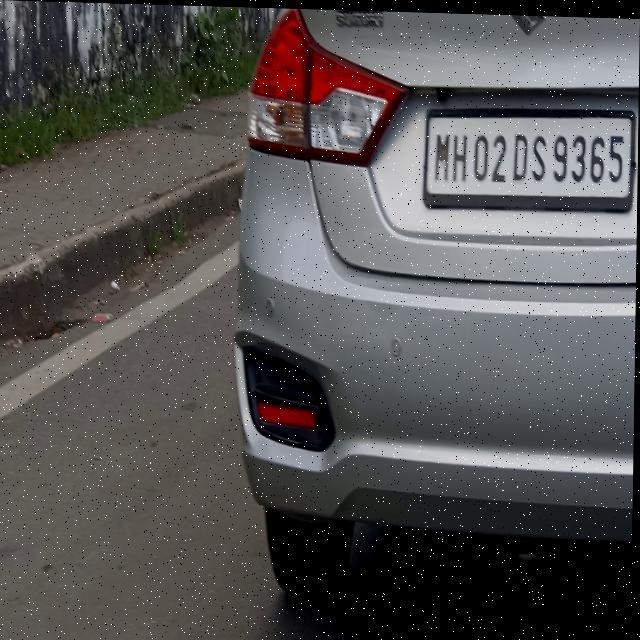plate: (422, 99, 637, 210)
